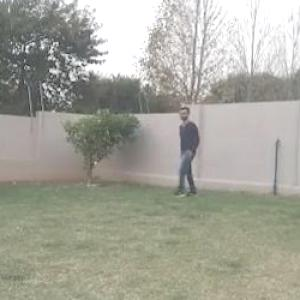follow: (176, 106, 200, 202)
